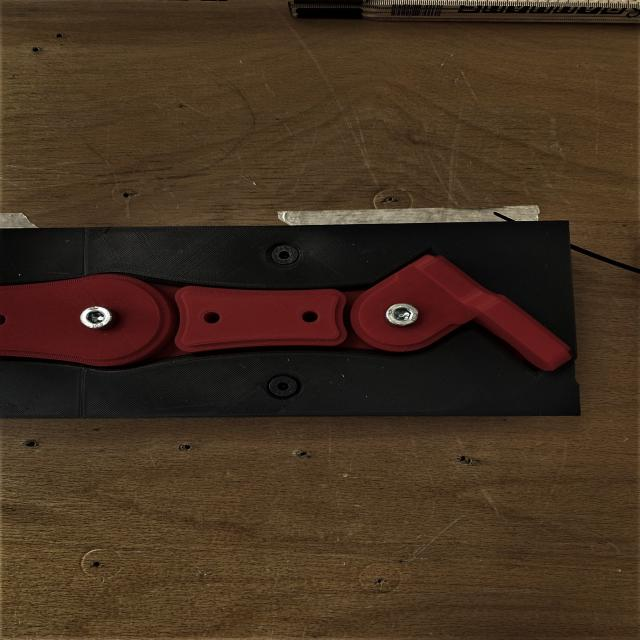HexScrew: (386, 304, 420, 326), (269, 244, 300, 266), (268, 376, 300, 397), (81, 306, 111, 328)
